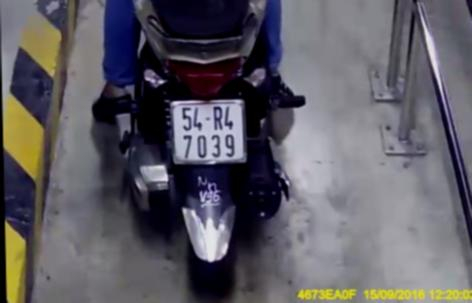License_Plate: (162, 94, 254, 175)
